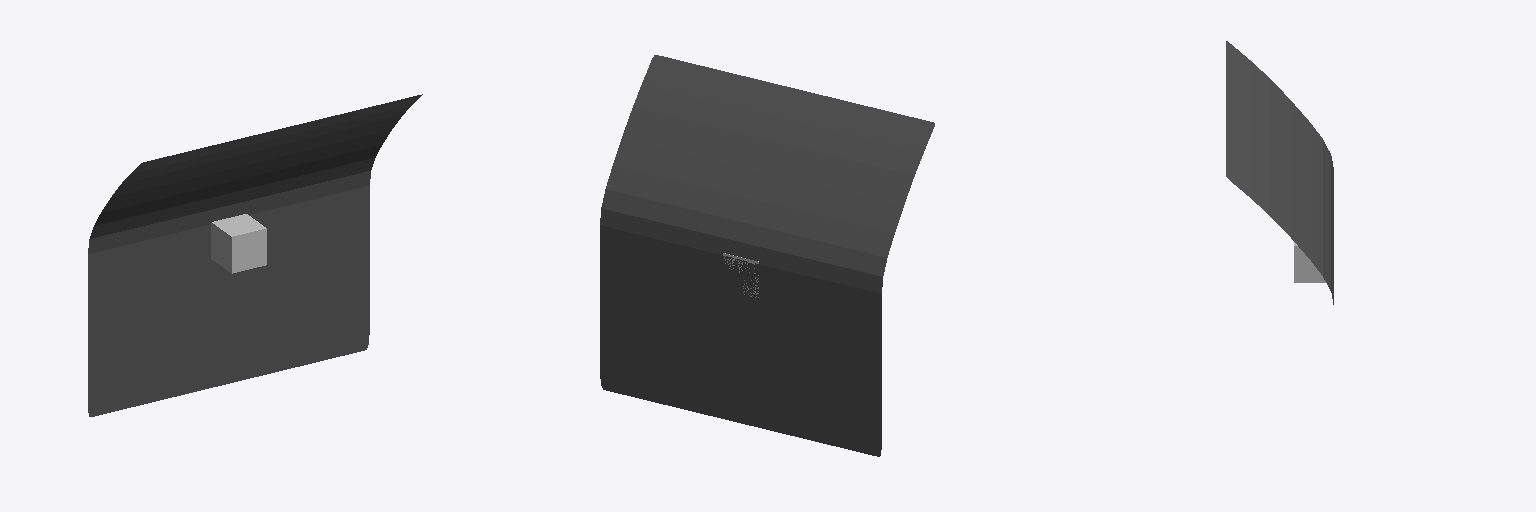
3 renders of one model, left to right at view 1: azimuth 30°, elevation 25°; view 2: azimuth 150°, elevation 25°; view 3: azimuth 270°, elevation 25°, orthographic.
Visible parts, largest first — view 1: ground, widgets_Cube; view 2: ground; view 3: ground, widgets_Cube.
Boxes of the visible parts, x1=… form: ground: x1=88, y1=94, x2=422, y2=416; widgets_Cube: x1=211, y1=214, x2=266, y2=273; ground: x1=600, y1=55, x2=934, y2=456; ground: x1=1226, y1=41, x2=1333, y2=304; widgets_Cube: x1=1294, y1=242, x2=1325, y2=282.
Size of the model in its own units: 16 by 16 by 5.33.